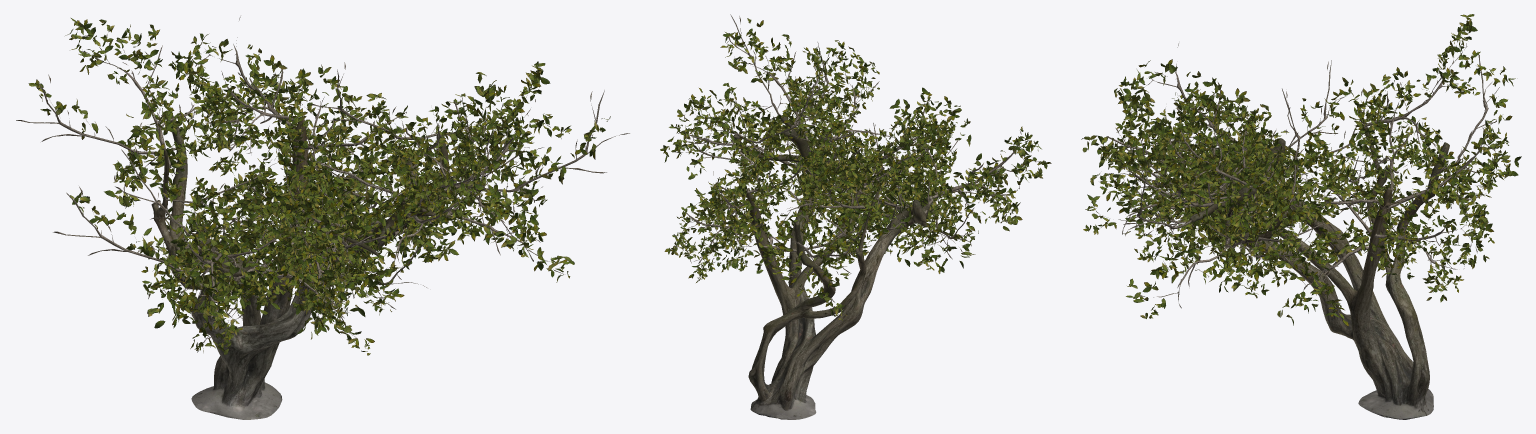
File: arv2-perto.glb
3 renders of one model, left to right at view 1: azimuth 30°, elevation 25°; view 2: azimuth 150°, elevation 25°; view 3: azimuth 270°, elevation 25°, orthographic. The views are drawn at different scales.
Visible parts, largest first — view 1: island_tree_02_LOD0; view 2: island_tree_02_LOD0; view 3: island_tree_02_LOD0.
Part boxes in pixels (x1,y1,x2,y2): island_tree_02_LOD0: [16, 16, 629, 419]; island_tree_02_LOD0: [660, 14, 1051, 419]; island_tree_02_LOD0: [1081, 14, 1521, 419].
Bounding box in the file's own units: 4.21 × 3.4 × 4.06.
Materials: 3 (3 with a texture image).
